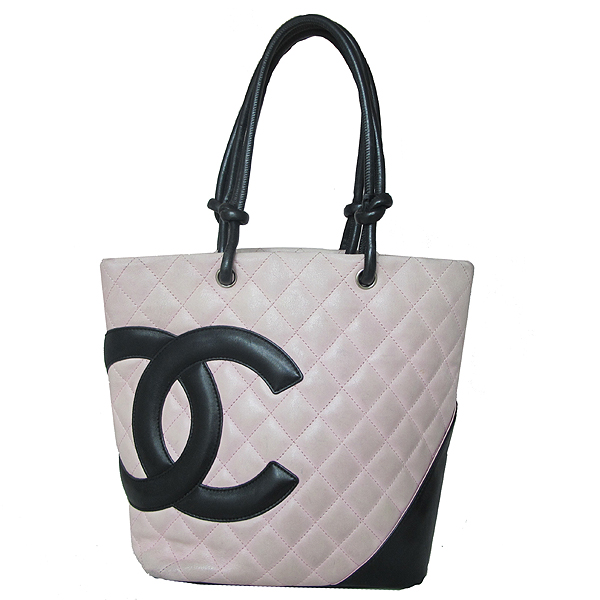channel: (68, 212, 497, 600), (90, 316, 319, 529)
